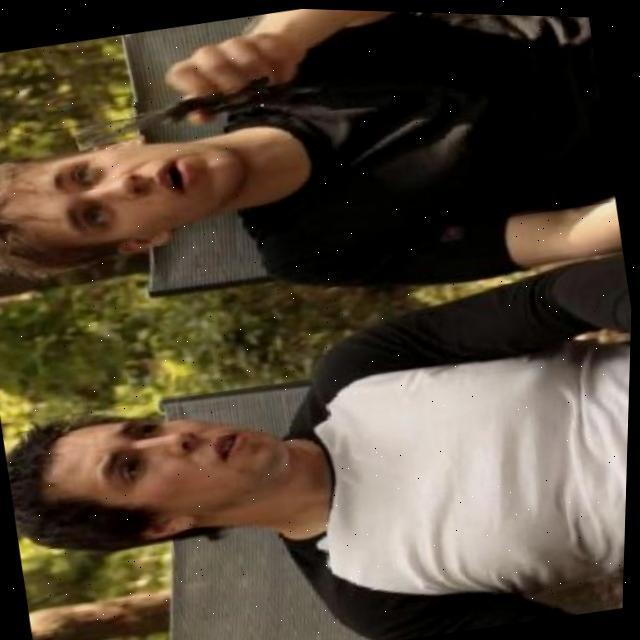knife: (71, 74, 278, 148)
